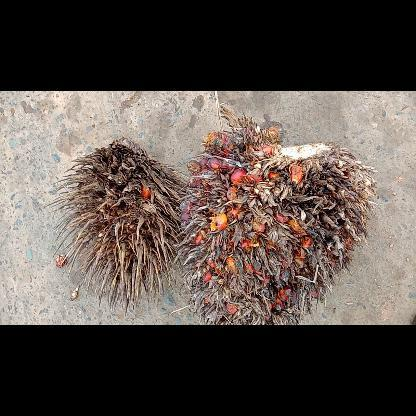Janjang kosong: (46, 138, 188, 312)
Terlalu masak: (174, 106, 378, 324)
